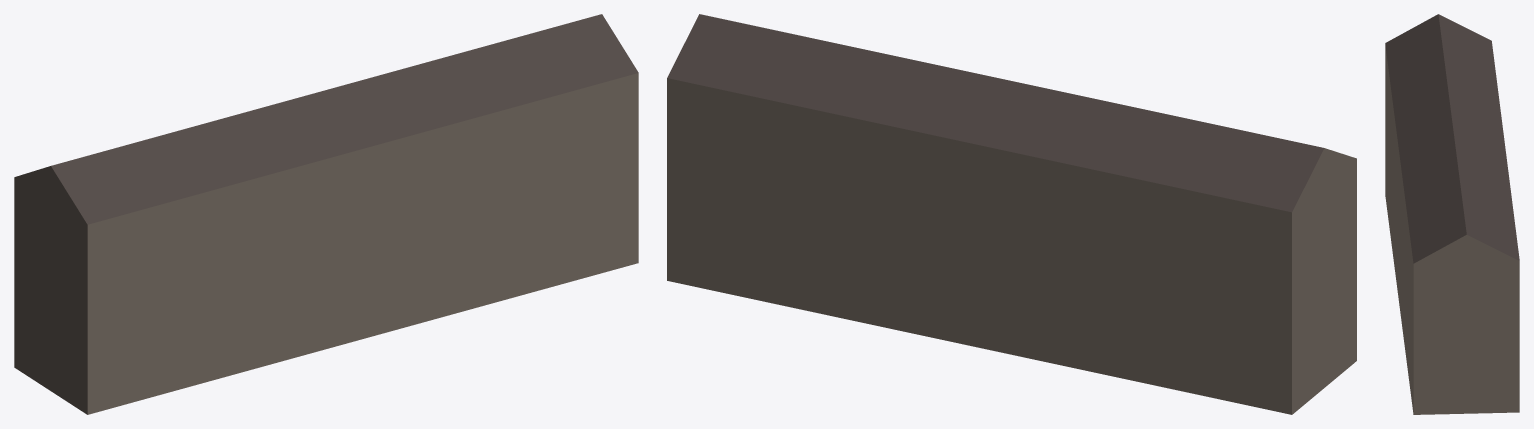
3 views of the same model, side by side, from view 1: azimuth 30°, elevation 25°; view 2: azimuth 150°, elevation 25°; view 3: azimuth 270°, elevation 25° (orthographic). The views are drawn at different scales.
Visible parts, largest first — view 1: HP-w1424106471; view 2: HP-w1424106471; view 3: HP-w1424106471.
Boxes of the visible parts, <box> form: HP-w1424106471: <box>14,14,638,414</box>; HP-w1424106471: <box>667,14,1356,414</box>; HP-w1424106471: <box>1385,14,1519,414</box>.
Bounding box in the file's own units: 19 × 7.11 × 4.85.
